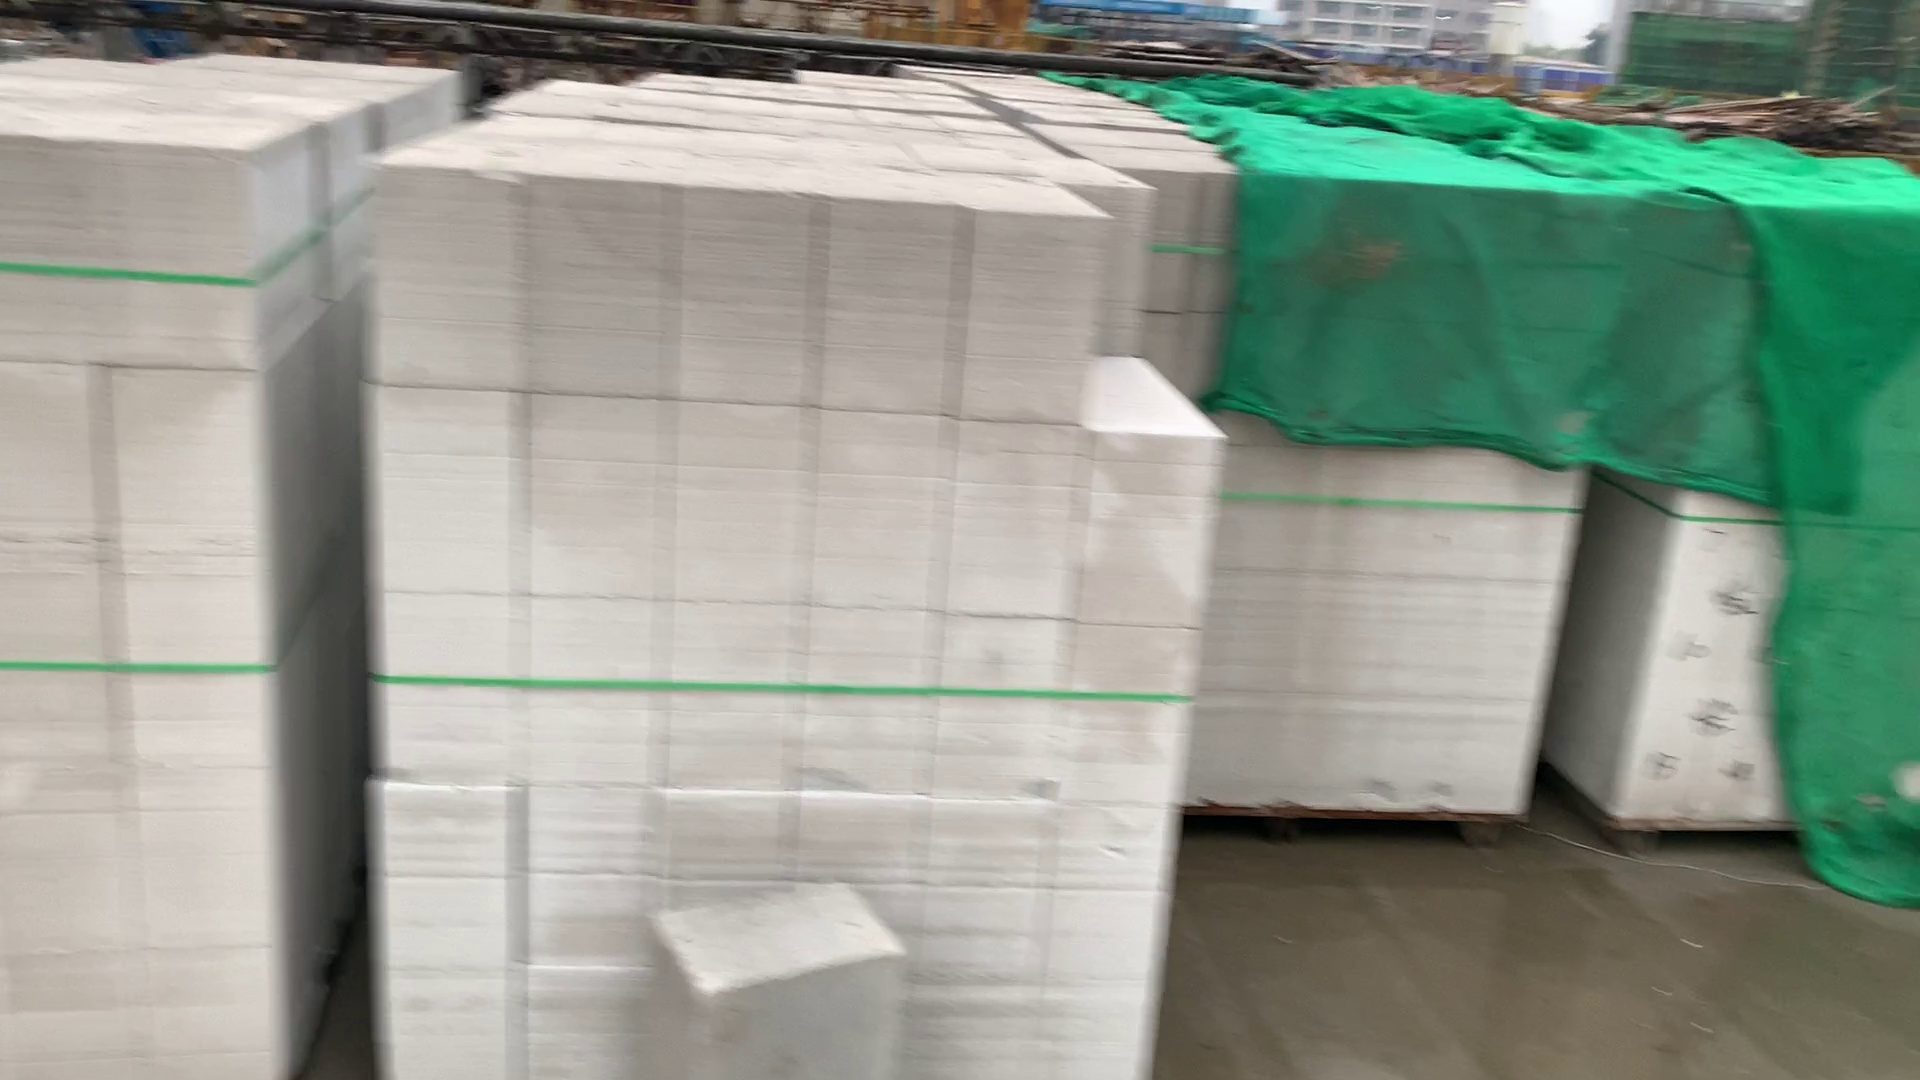brickwork: (375, 105, 1205, 1080), (4, 51, 344, 1080), (1145, 161, 1557, 825), (1638, 196, 1920, 827), (512, 76, 1036, 142), (157, 37, 443, 117), (799, 65, 977, 105), (1030, 98, 1184, 131)
